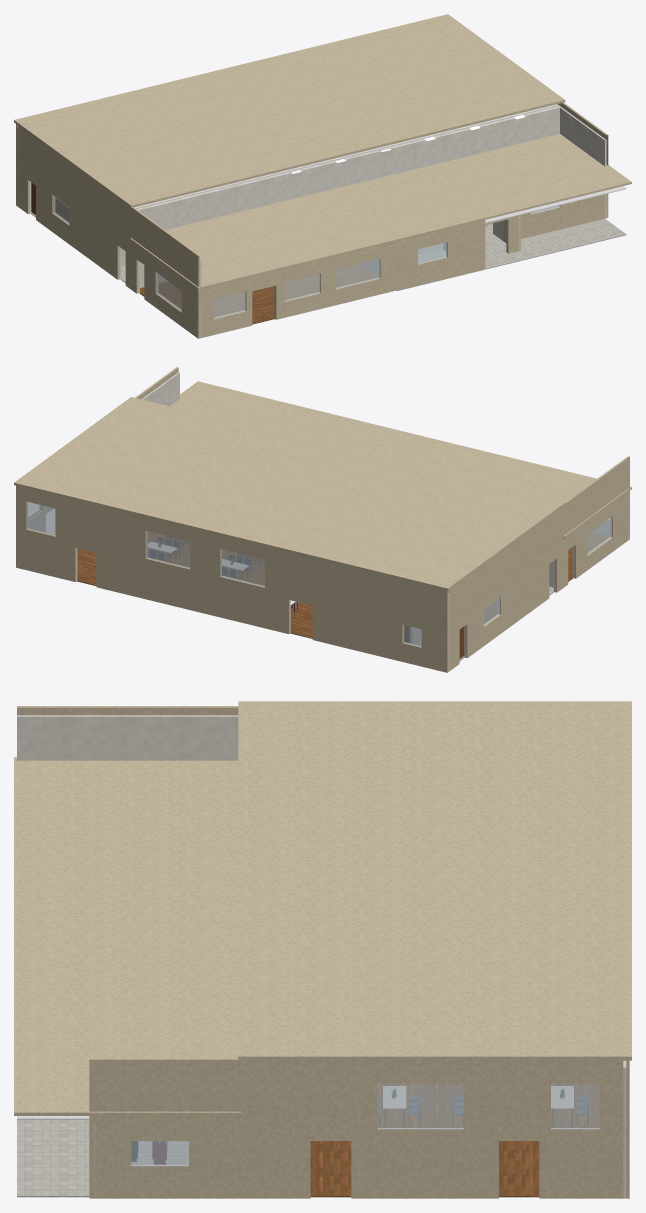
The model's file is salle_des_fetes.glb.
The picture shows the model from 3 angles, top to bottom: view 1: azimuth 30°, elevation 25°; view 2: azimuth 150°, elevation 25°; view 3: azimuth 270°, elevation 25°; orthographic projection. The views are drawn at different scales.
Parts seen in each view (by area): view 1: Toiture, Murs_exterieurs_facade, Murs_interieurs, Vitrages, Sol_services, Sol_annexe, Murs_exterieurs_interieur, Plafond_salle, Plafond_annexes; view 2: Toiture, Murs_exterieurs_facade, Vitrages, Sol_salle_principale, Murs_exterieurs_interieur, Chaises; view 3: Toiture, Murs_exterieurs_facade, Murs_exterieurs_interieur, Sol_salle_principale, Vitrages, Sol_services, Tables, Chaises.
Boxes of the visible parts, x1=… form: Toiture: x1=14, y1=14, x2=631, y2=289; Murs_exterieurs_facade: x1=16, y1=102, x2=608, y2=338; Murs_interieurs: x1=121, y1=106, x2=559, y2=287; Vitrages: x1=53, y1=195, x2=559, y2=318; Sol_services: x1=31, y1=206, x2=626, y2=290; Sol_annexe: x1=139, y1=264, x2=377, y2=324; Murs_exterieurs_interieur: x1=17, y1=104, x2=606, y2=337; Plafond_salle: x1=134, y1=104, x2=557, y2=208; Plafond_annexes: x1=225, y1=186, x2=626, y2=286; Toiture: x1=14, y1=381, x2=631, y2=590; Murs_exterieurs_facade: x1=16, y1=367, x2=629, y2=672; Vitrages: x1=27, y1=501, x2=611, y2=646; Sol_salle_principale: x1=77, y1=531, x2=312, y2=638; Murs_exterieurs_interieur: x1=27, y1=372, x2=628, y2=671; Chaises: x1=148, y1=536, x2=297, y2=604; Toiture: x1=14, y1=701, x2=631, y2=1115; Murs_exterieurs_facade: x1=17, y1=706, x2=629, y2=1198; Murs_exterieurs_interieur: x1=17, y1=715, x2=626, y2=1198; Sol_salle_principale: x1=310, y1=1083, x2=599, y2=1197; Vitrages: x1=131, y1=1083, x2=599, y2=1166; Sol_services: x1=17, y1=1120, x2=188, y2=1197; Tables: x1=383, y1=1086, x2=573, y2=1108; Chaises: x1=377, y1=1085, x2=588, y2=1114.
Bounding box in the file's own units: 29.07 × 5.5 × 21.35.
61 materials, 27 textured.
